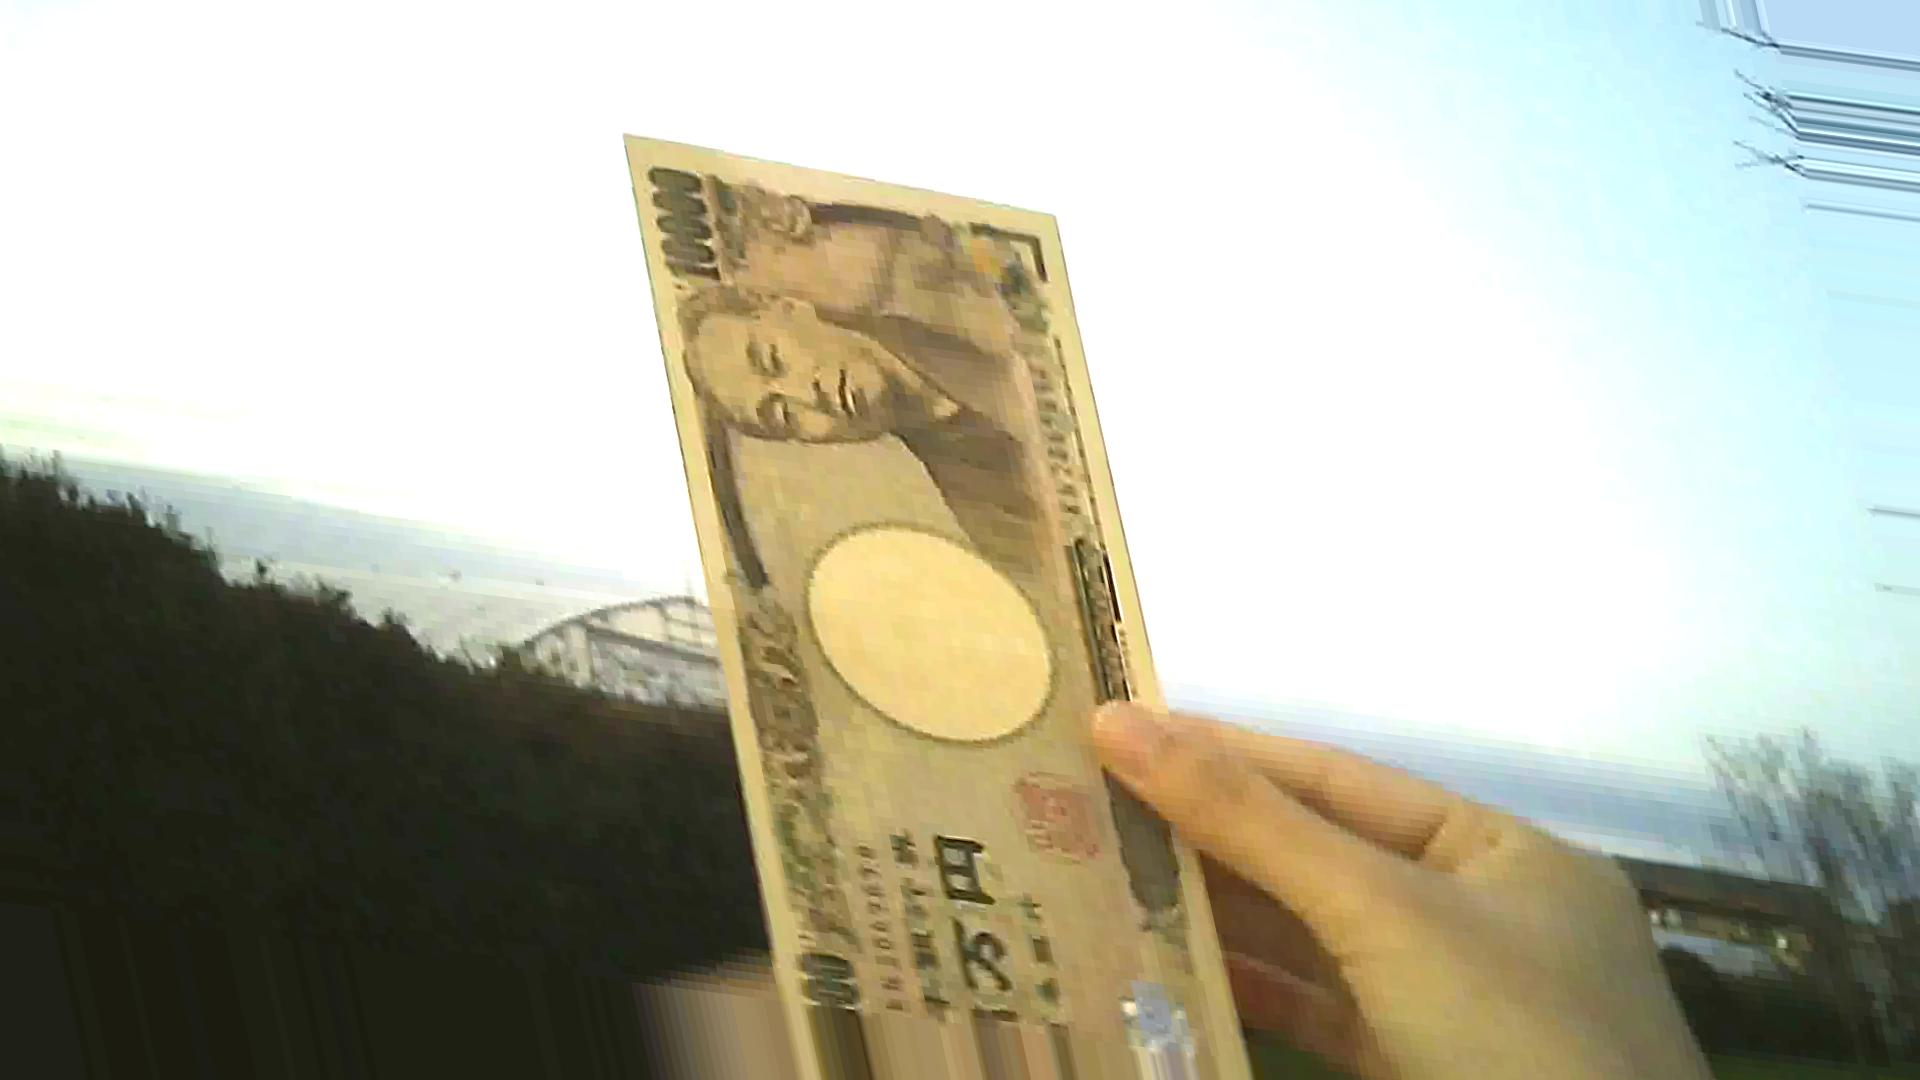10,000 Yen: (607, 113, 1284, 1064)
